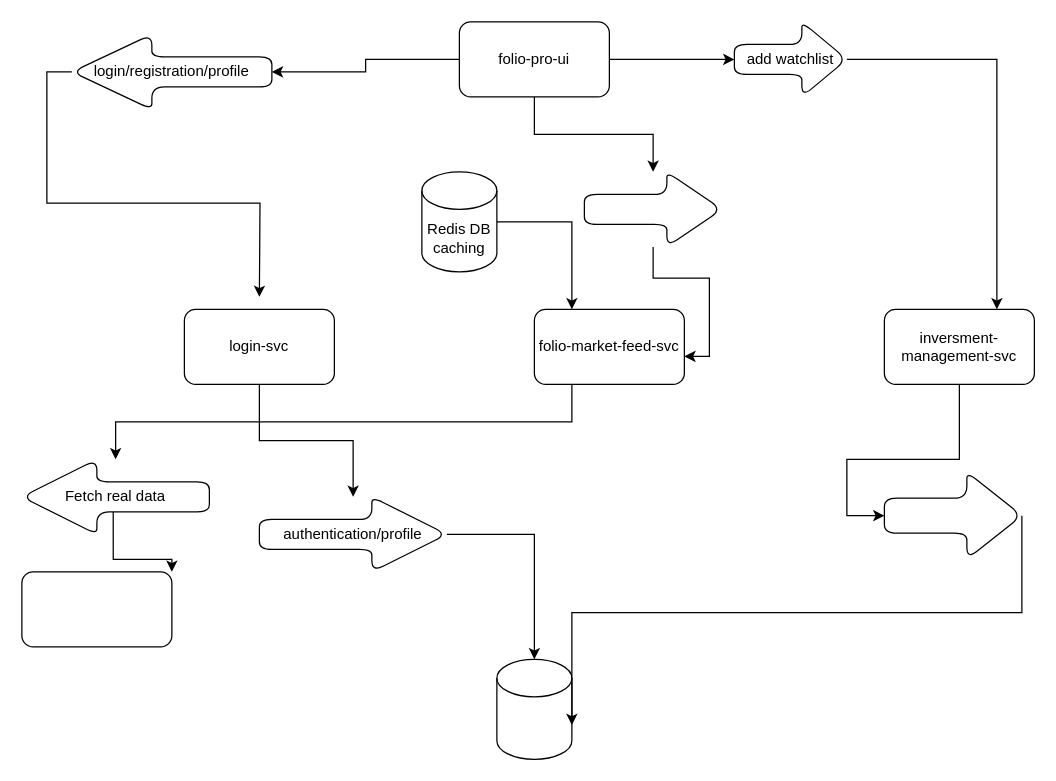
The diagram is 1056 pixels wide and 781 high, and some of its shapes have lost their labels. Here are the shapes that lost their labels. From the top down, the box of each, then its label:
(583, 171, 722, 247): sends Ticker ,Country
(883, 471, 1022, 559): save for every customer wise
(21, 571, 172, 647): 3rd party financials
(496, 658, 572, 759): Postgress DB
